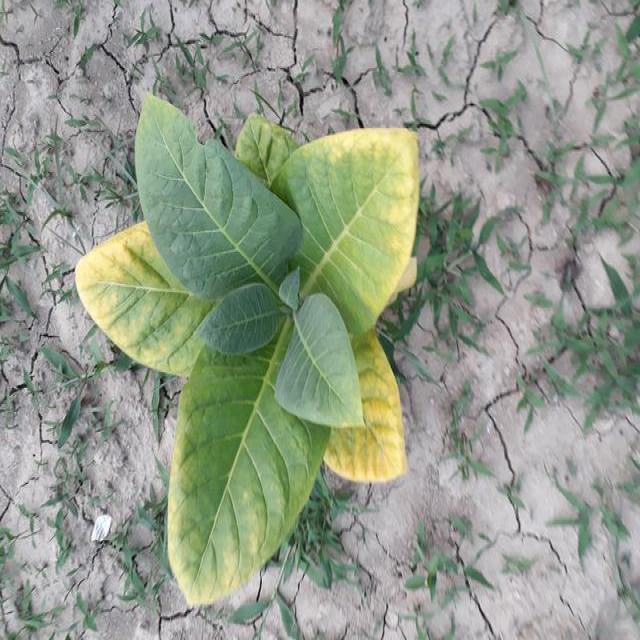crop: (72, 78, 428, 602)
